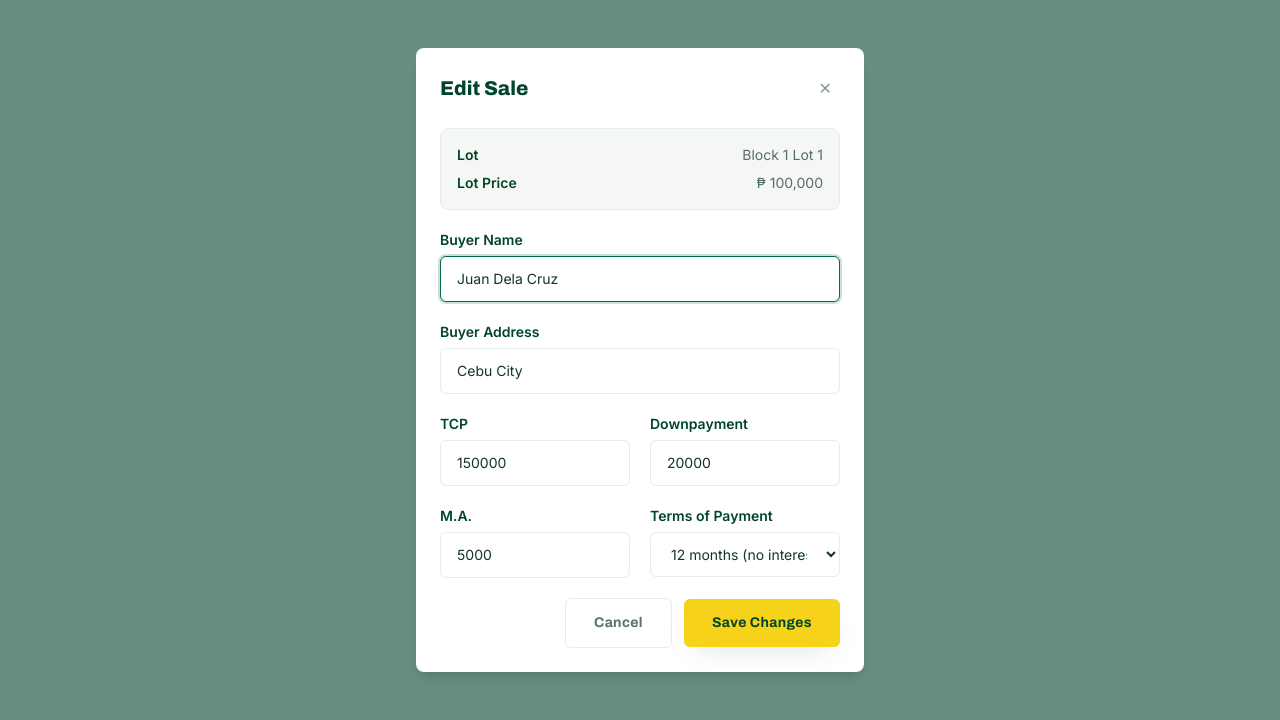
Scenario: SaleDetailsModal › requires a TCP greater than zero
The image size is (1280, 720).
Replace the text in the number field labelled "TCP" with "-5" at (535, 463), box [440,440,630,486]
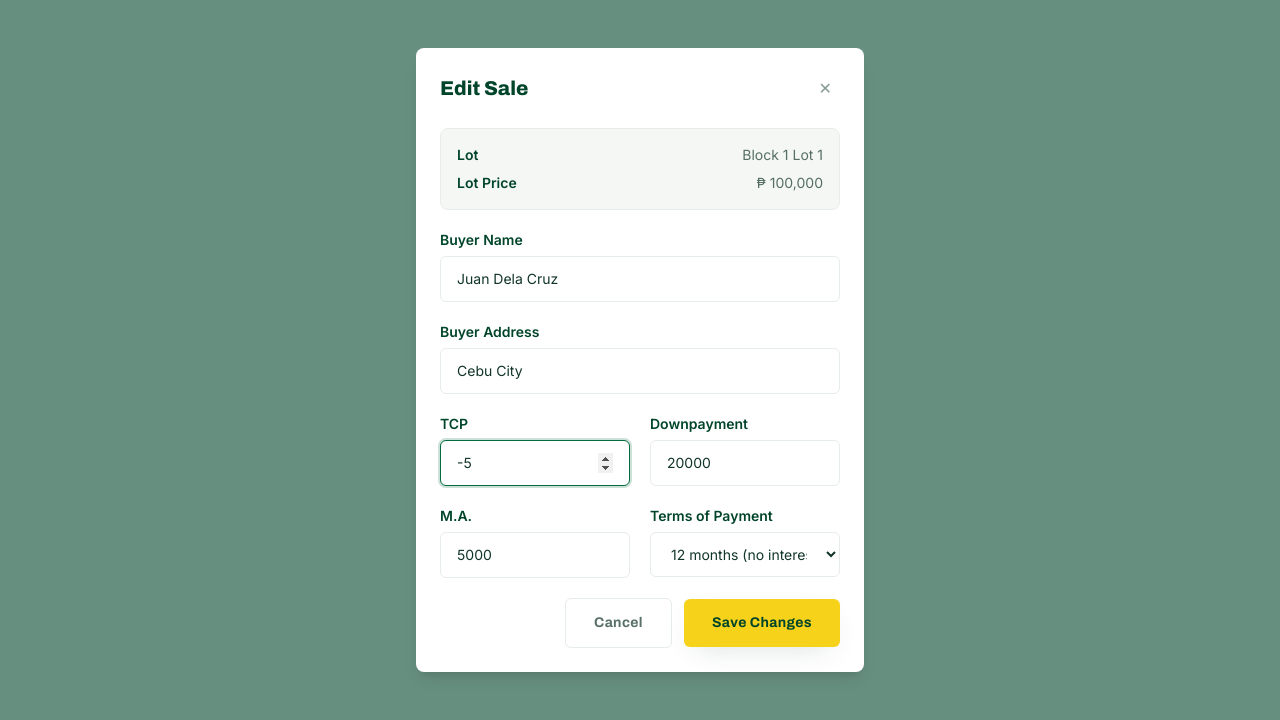
Click the button "Save Changes" at (762, 623), box [684,599,840,647]
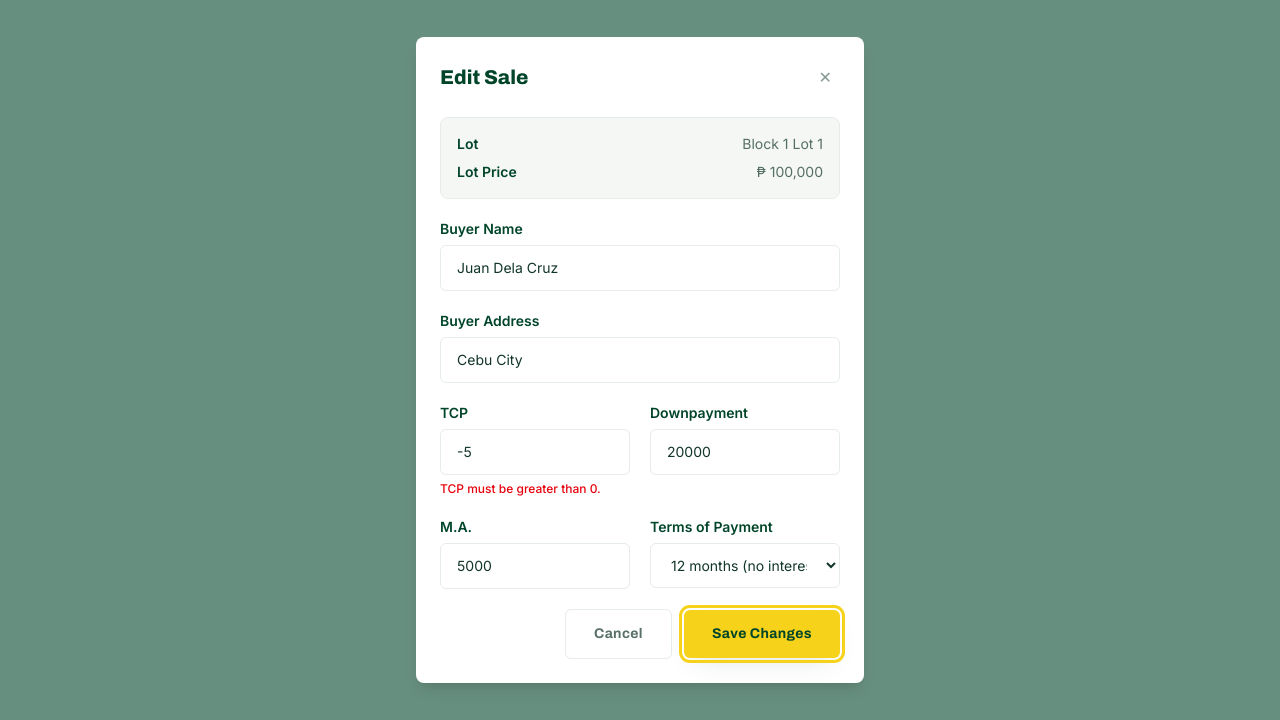
Result: the text "TCP must be greater than 0." is shown at [440,481,601,496]
